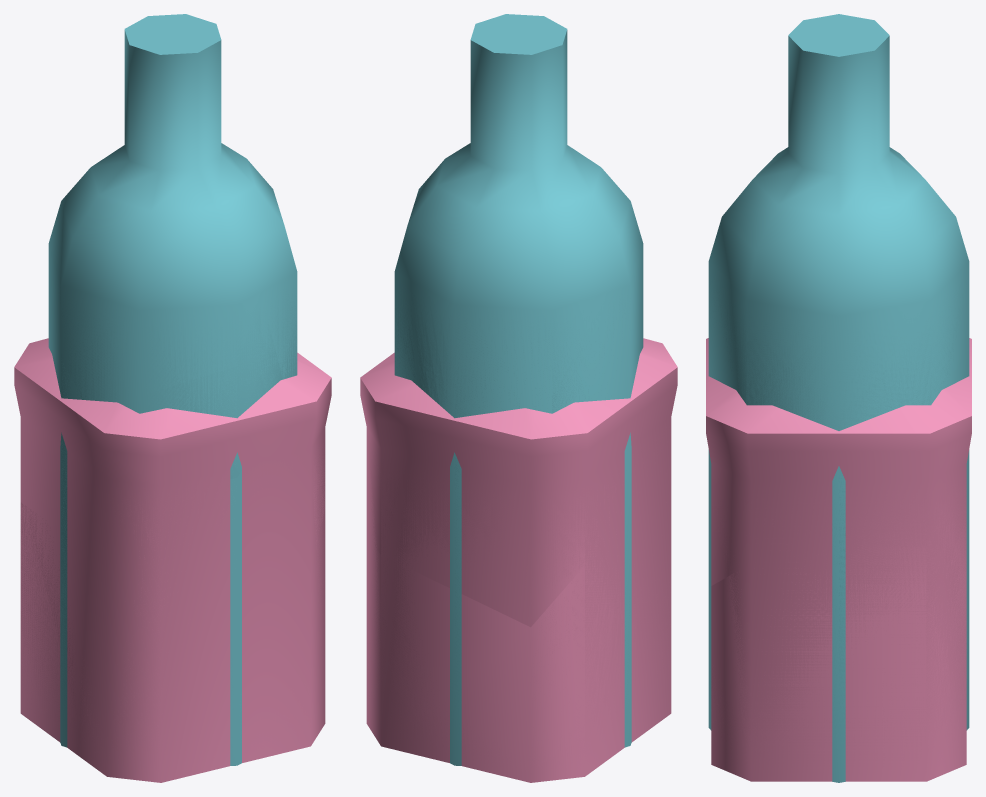
Rendered from Bottels_B.fbx.
3 renders of one model, left to right at view 1: azimuth 30°, elevation 25°; view 2: azimuth 150°, elevation 25°; view 3: azimuth 270°, elevation 25°, orthographic.
Parts seen in each view (by area): view 1: Bottle_4_L, Bottle_6_L, Bottle_6_Br, Bottle_4_Br01, Bottle_6_Br01, Bottle_4_Br; view 2: Bottle_4_L, Bottle_6_L, Bottle_4_Br01, Bottle_4_Br, Bottle_6_Br, Bottle_6_Br01; view 3: Bottle_6_L, Bottle_4_L, Bottle_4_Br01, Bottle_6_Br, Bottle_4_Br, Bottle_6_Br01.
Boxes of the visible parts, x1,y1,x2,y2 form: Bottle_4_L: (14,338,331,782); Bottle_6_L: (48,14,297,765); Bottle_6_Br: (51,254,297,478); Bottle_4_Br01: (20,502,325,782); Bottle_6_Br01: (60,364,241,765); Bottle_4_Br: (20,422,325,551); Bottle_4_L: (360,338,677,782); Bottle_6_L: (394,14,643,765); Bottle_4_Br01: (366,547,671,782); Bottle_4_Br: (366,418,670,627); Bottle_6_Br: (394,257,639,478); Bottle_6_Br01: (450,391,631,765); Bottle_6_L: (708,14,969,782); Bottle_4_L: (706,338,971,781); Bottle_4_Br01: (711,571,966,781); Bottle_6_Br: (708,262,969,527); Bottle_4_Br: (711,465,966,593); Bottle_6_Br01: (708,450,969,782).
Size of the model in its own units: 6.44 by 18.52 by 6.44.
